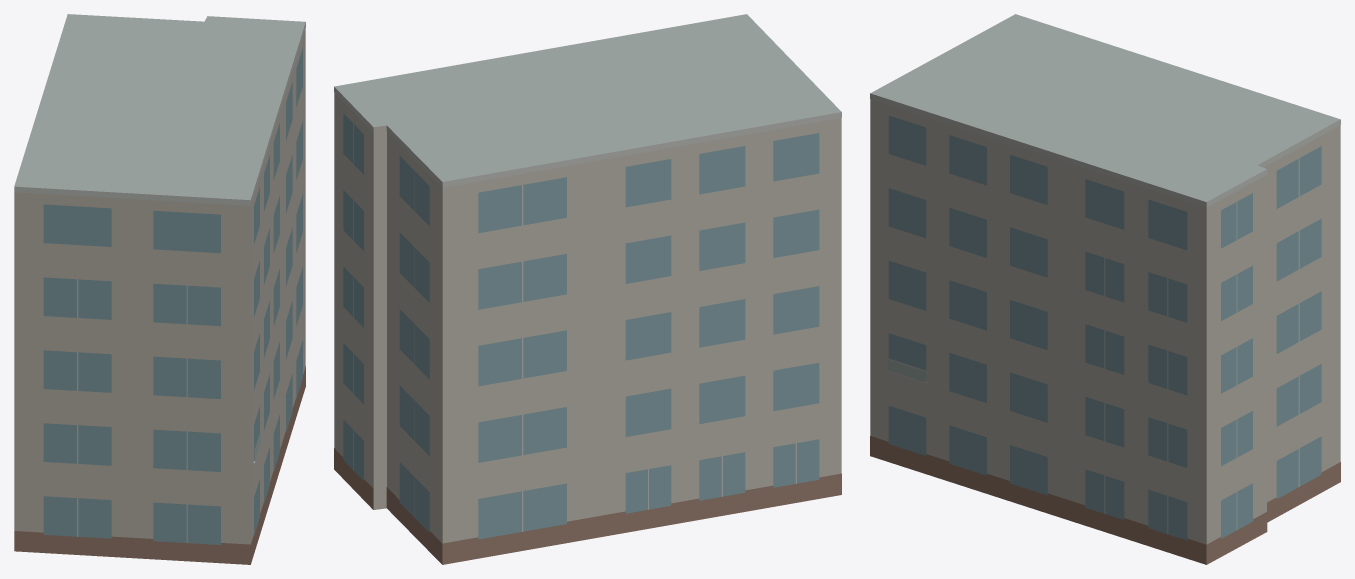
Rendered from survey-upis-32578529.glb.
The picture shows the model from 3 angles, left to right: view 1: azimuth 30°, elevation 25°; view 2: azimuth 150°, elevation 25°; view 3: azimuth 270°, elevation 25°; orthographic projection. The views are drawn at different scales.
Parts seen in each view (by area): view 1: survey-upis-32578529.tmp; view 2: survey-upis-32578529.tmp; view 3: survey-upis-32578529.tmp.
Part boxes in pixels (<box>): survey-upis-32578529.tmp: <box>14,14,305,564</box>; survey-upis-32578529.tmp: <box>334,14,841,564</box>; survey-upis-32578529.tmp: <box>870,14,1340,564</box>.
Size of the model in its own units: 17.8 by 16 by 18.82.
